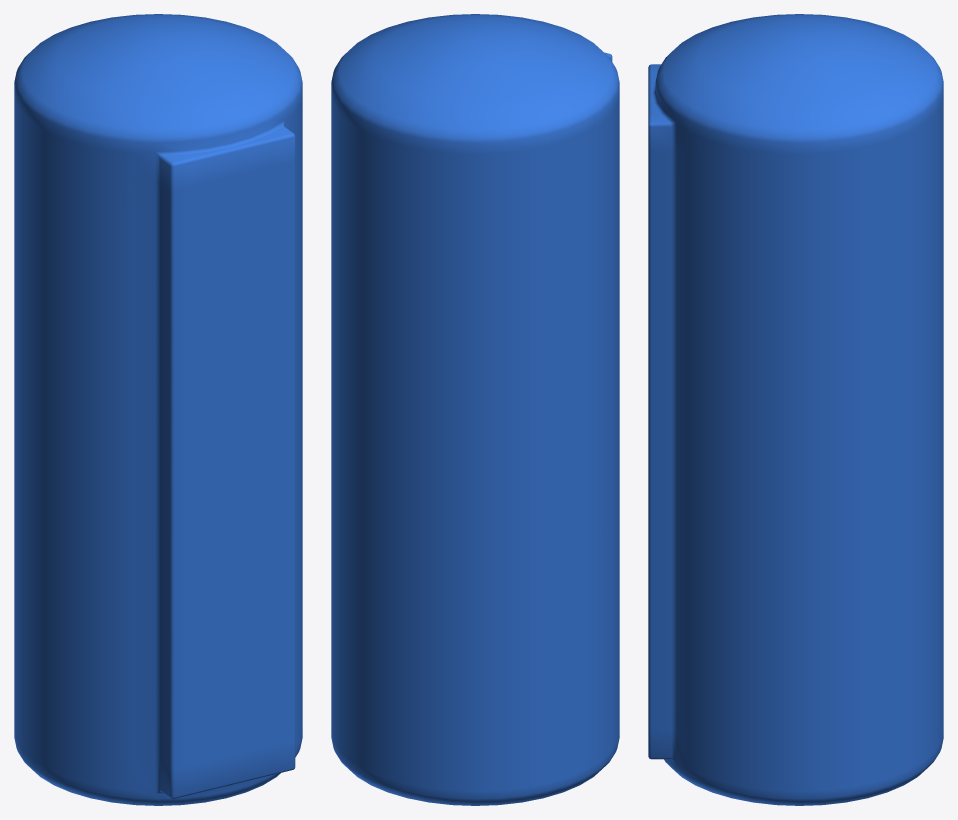
File: Explosive.fbx
3 views of the same model, side by side, from view 1: azimuth 30°, elevation 25°; view 2: azimuth 150°, elevation 25°; view 3: azimuth 270°, elevation 25° (orthographic).
Visible parts, largest first — view 1: Cube.002__0; view 2: Cube.002__0; view 3: Cube.002__0.
Boxes of the visible parts, bbox=[...] form: Cube.002__0: bbox=[14, 14, 302, 805]; Cube.002__0: bbox=[331, 14, 619, 805]; Cube.002__0: bbox=[648, 14, 943, 805].
Size of the model in its own units: 384 by 1096 by 394.
